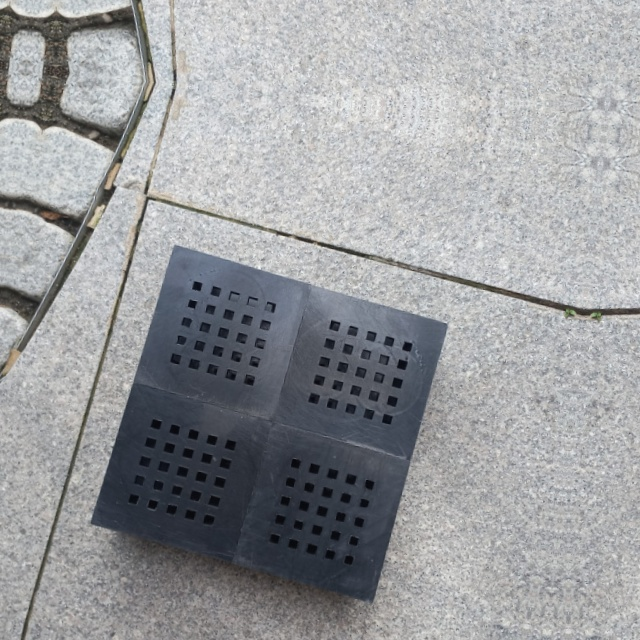pallet: (81, 238, 458, 612)
